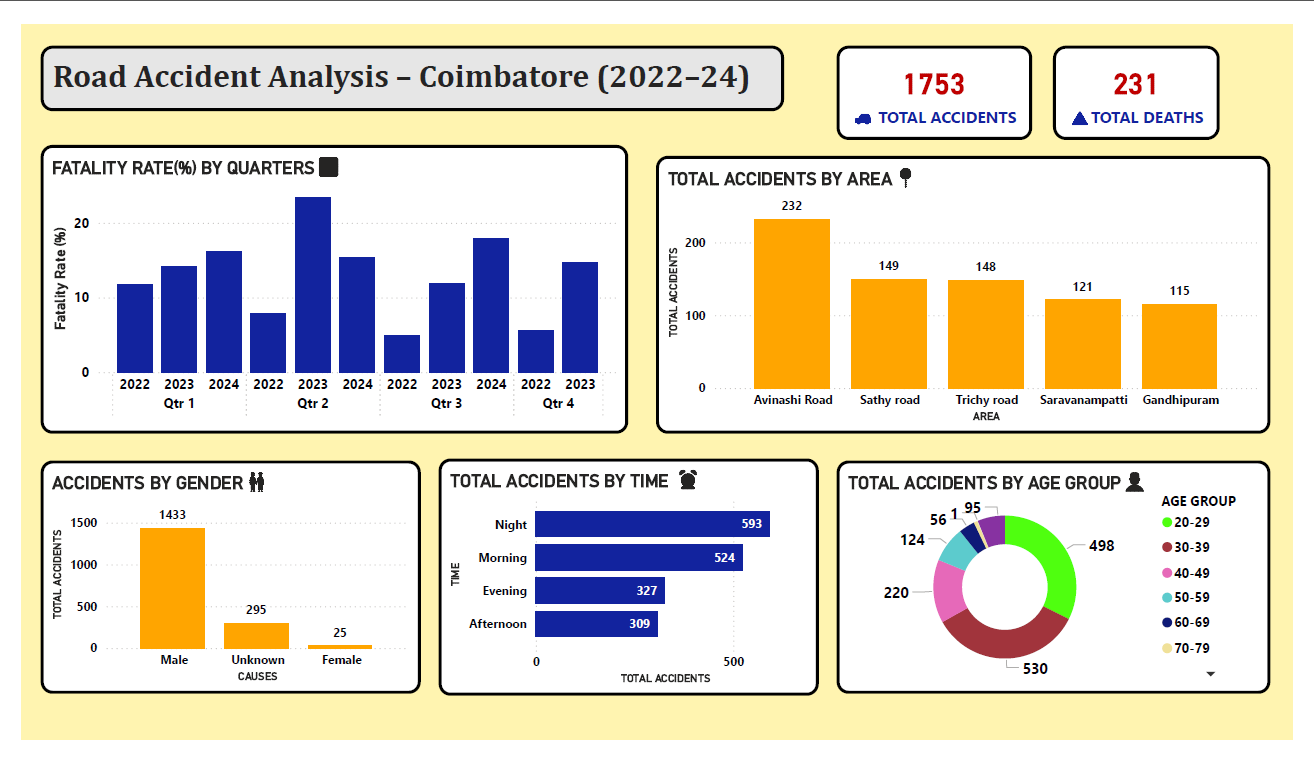

What the dashboard file says about the page in this screenshot:
{"tool":"powerbi","page":{"name":"Other factors","canvas":[1280,720],"ordinal":1},"visuals":[{"type":"columnChart","title":"ACCIDENTS BY GENDER🧑🤝🧑","fields":{"Category":["Raw data.GENDER"],"Y":["Raw data.TOTAL ACCIDENTS"]},"box":[19.1,439,383.3,235.4],"z":0},{"type":"donutChart","title":"TOTAL ACCIDENTS BY AGE GROUP👤","fields":{"Y":["Raw data.TOTAL ACCIDENTS"],"Series":["Raw data.AGE GROUP"]},"box":[820.8,439,437.4,235.4],"z":1000},{"type":"barChart","title":"TOTAL ACCIDENTS BY TIME ⏰ ","fields":{"Y":["Raw data.TOTAL ACCIDENTS"],"Category":["Raw data.TIME"]},"box":[419.9,437.4,383.3,238.6],"z":2000},{"type":"columnChart","title":"TOTAL ACCIDENTS BY AREA📍","fields":{"Y":["Raw data.TOTAL ACCIDENTS"],"Category":["Raw data.AREA"]},"box":[639.4,132,618.7,279.9],"z":3000},{"type":"textbox","box":[19.1,20.7,749.2,66.8],"z":4000},{"type":"card","fields":{"Values":["Raw data.TOTAL ACCIDENTS"]},"box":[820.8,20.7,197.2,95.4],"z":5000},{"type":"card","fields":{"Values":["Raw data.TOTAL DEATHS"]},"box":[1038.7,20.7,168.6,95.4],"z":6000},{"type":"clusteredColumnChart","title":"FATALITY RATE(%) BY QUARTERS📉 ","fields":{"Y":["Raw data.Fatality Rate (%)"],"Category":["Raw data.DATE.Variation.Date Hierarchy.Quarter","Raw data.DATE.Variation.Date Hierarchy.Year"]},"box":[19.1,120.9,591.7,291.1],"z":7001}]}

Visuals, with their boxes in screenshot pixels (x1, y1, x2, y2), scaled from the page's 1280x720 canvas onto the 1314x760 screenshot:
"ACCIDENTS BY GENDER🧑🤝🧑" columnChart: <bbox>20, 463, 413, 712</bbox>
"TOTAL ACCIDENTS BY AGE GROUP👤" donutChart: <bbox>843, 463, 1292, 712</bbox>
"TOTAL ACCIDENTS BY TIME ⏰ " barChart: <bbox>431, 462, 825, 714</bbox>
"TOTAL ACCIDENTS BY AREA📍" columnChart: <bbox>656, 139, 1292, 435</bbox>
textbox: <bbox>20, 22, 789, 92</bbox>
card - Raw data.TOTAL ACCIDENTS: <bbox>843, 22, 1045, 123</bbox>
card - Raw data.TOTAL DEATHS: <bbox>1066, 22, 1239, 123</bbox>
"FATALITY RATE(%) BY QUARTERS📉 " clusteredColumnChart: <bbox>20, 128, 627, 435</bbox>
